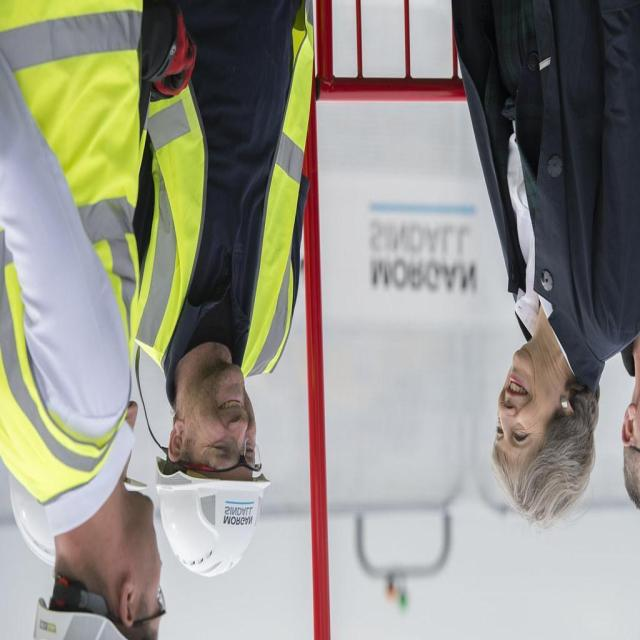helmet: (150, 460, 280, 586)
jacket: (3, 0, 148, 512)
